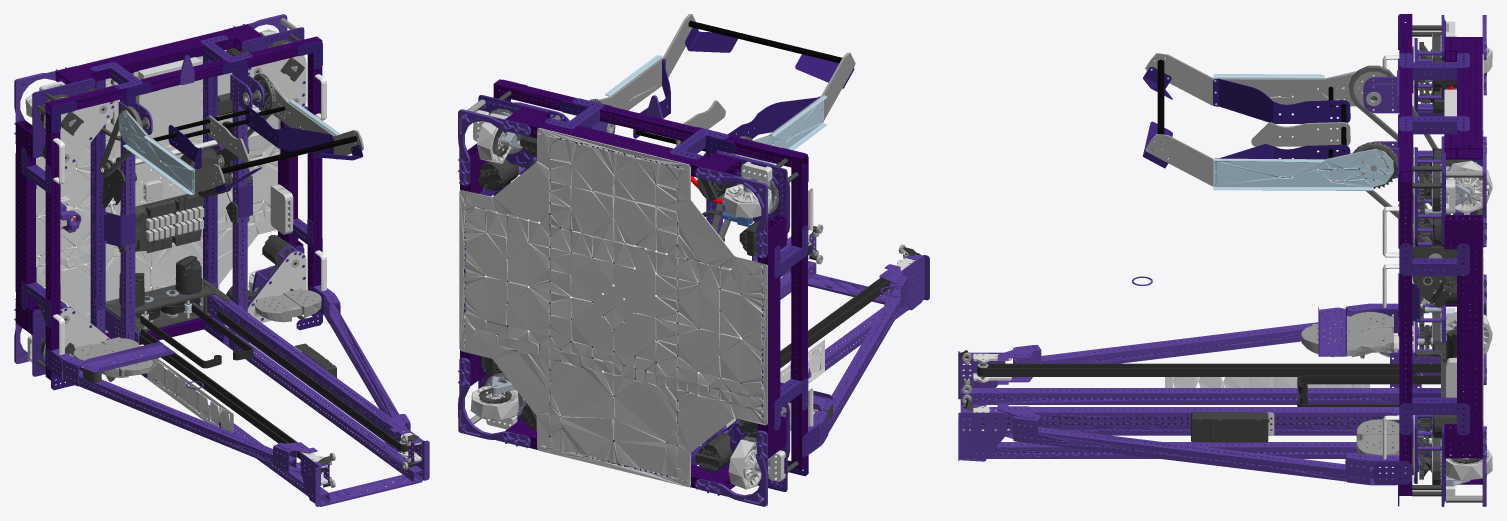
3 views of the same model, side by side, from view 1: azimuth 30°, elevation 25°; view 2: azimuth 150°, elevation 25°; view 3: azimuth 270°, elevation 25° (orthographic). The views are drawn at different scales.
Parts seen in each view (by area): view 1: gbase_c9, gbase_c10, gbase_c2, gbase_c3, gbase_c35, gbase_c1, gbase_c4, gbase_c6, gbase_c17, gbase_c8, gbase_c7, gbase_c11 (+7 smaller); view 2: gbase_c10, gbase_c2, gbase_c9, gbase_c3, gbase_c1, gbase_c8, gbase_c6, gbase_c17, gbase_c24, gbase_c35, gbase_c28, gbase_c7 (+2 smaller); view 3: gbase_c9, gbase_c2, gbase_c3, gbase_c8, gbase_c35, gbase_c24, gbase_c1, gbase_c11, gbase_c6, gbase_c4, gbase_c17, gbase_c20 (+7 smaller).
Boxes of the visible parts, x1=… form: gbase_c9: x1=14, y1=14, x2=429, y2=506; gbase_c10: x1=15, y1=31, x2=306, y2=366; gbase_c2: x1=16, y1=24, x2=322, y2=380; gbase_c3: x1=21, y1=27, x2=324, y2=377; gbase_c35: x1=116, y1=297, x2=408, y2=472; gbase_c1: x1=51, y1=41, x2=363, y2=390; gbase_c4: x1=36, y1=33, x2=403, y2=442; gbase_c6: x1=25, y1=29, x2=293, y2=335; gbase_c17: x1=36, y1=48, x2=421, y2=487; gbase_c8: x1=40, y1=18, x2=407, y2=472; gbase_c7: x1=53, y1=74, x2=326, y2=432; gbase_c11: x1=73, y1=289, x2=321, y2=381; gbase_c10: x1=459, y1=102, x2=790, y2=487; gbase_c2: x1=460, y1=79, x2=807, y2=489; gbase_c9: x1=458, y1=95, x2=929, y2=506; gbase_c3: x1=478, y1=95, x2=820, y2=491; gbase_c1: x1=503, y1=27, x2=854, y2=476; gbase_c8: x1=467, y1=14, x2=855, y2=479; gbase_c6: x1=470, y1=113, x2=772, y2=489; gbase_c17: x1=478, y1=98, x2=920, y2=472; gbase_c24: x1=598, y1=55, x2=827, y2=164; gbase_c35: x1=613, y1=244, x2=890, y2=403; gbase_c28: x1=635, y1=20, x2=842, y2=151; gbase_c7: x1=726, y1=185, x2=824, y2=427; gbase_c9: x1=958, y1=15, x2=1486, y2=506; gbase_c2: x1=1399, y1=14, x2=1482, y2=495; gbase_c3: x1=1373, y1=15, x2=1482, y2=506; gbase_c8: x1=977, y1=53, x2=1482, y2=502; gbase_c35: x1=977, y1=363, x2=1440, y2=424; gbase_c24: x1=1213, y1=71, x2=1394, y2=190; gbase_c1: x1=1143, y1=15, x2=1413, y2=506; gbase_c11: x1=1301, y1=312, x2=1399, y2=455; gbase_c6: x1=1379, y1=47, x2=1492, y2=480; gbase_c4: x1=979, y1=25, x2=1463, y2=496; gbase_c17: x1=960, y1=57, x2=1470, y2=446; gbase_c20: x1=1418, y1=34, x2=1483, y2=484.
Bounding box in the file's own units: 0.7397 × 0.789 × 1.06.
